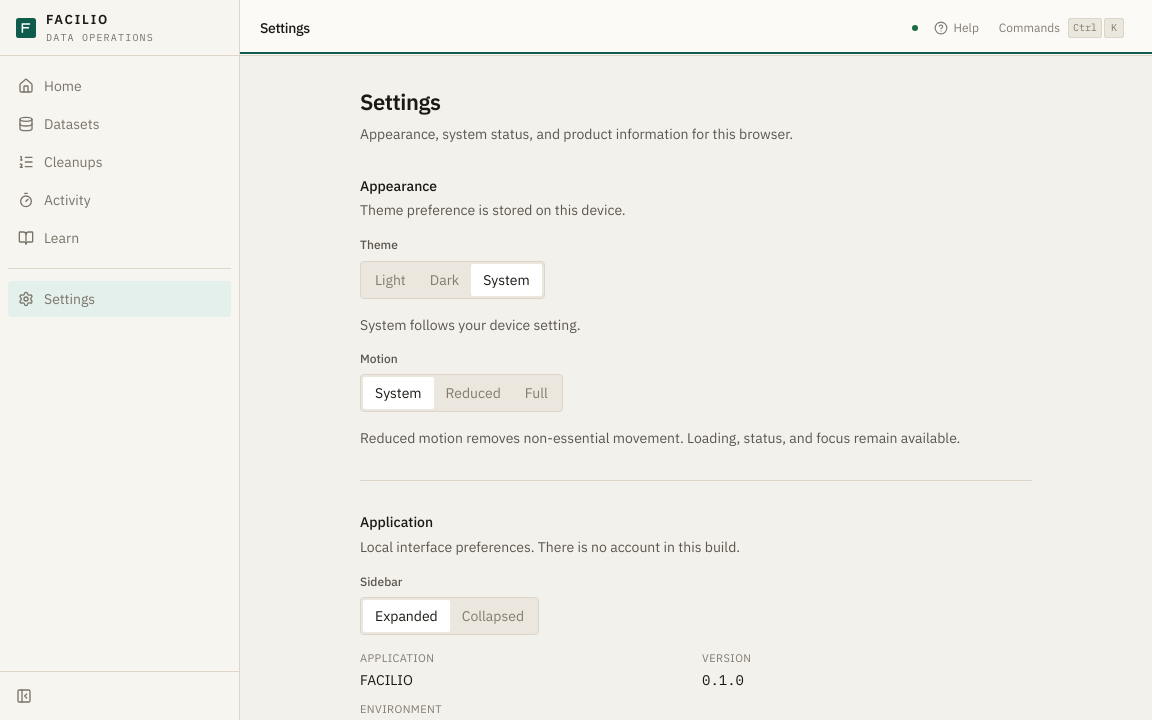
Scenario: settings can collapse navigation
Click the radio button labelled "Collapsed" at (493, 616), box [450, 600, 536, 632]
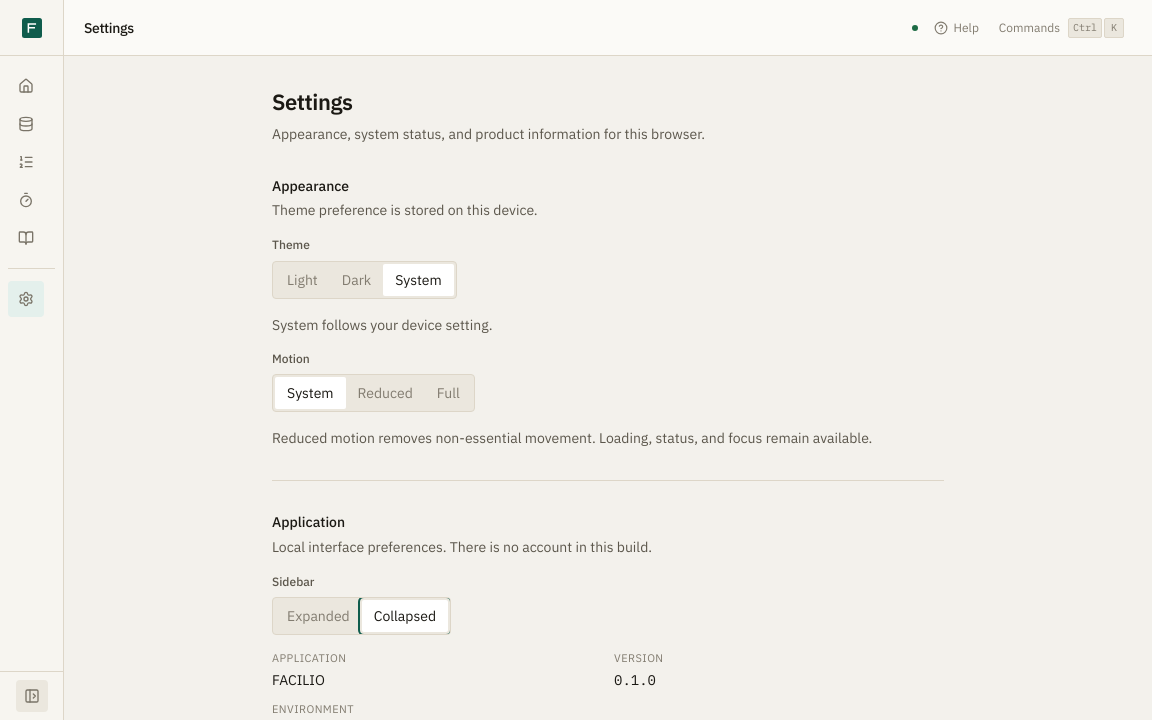
Result: the button named "Expand navigation" is shown at [16, 680, 48, 712]
